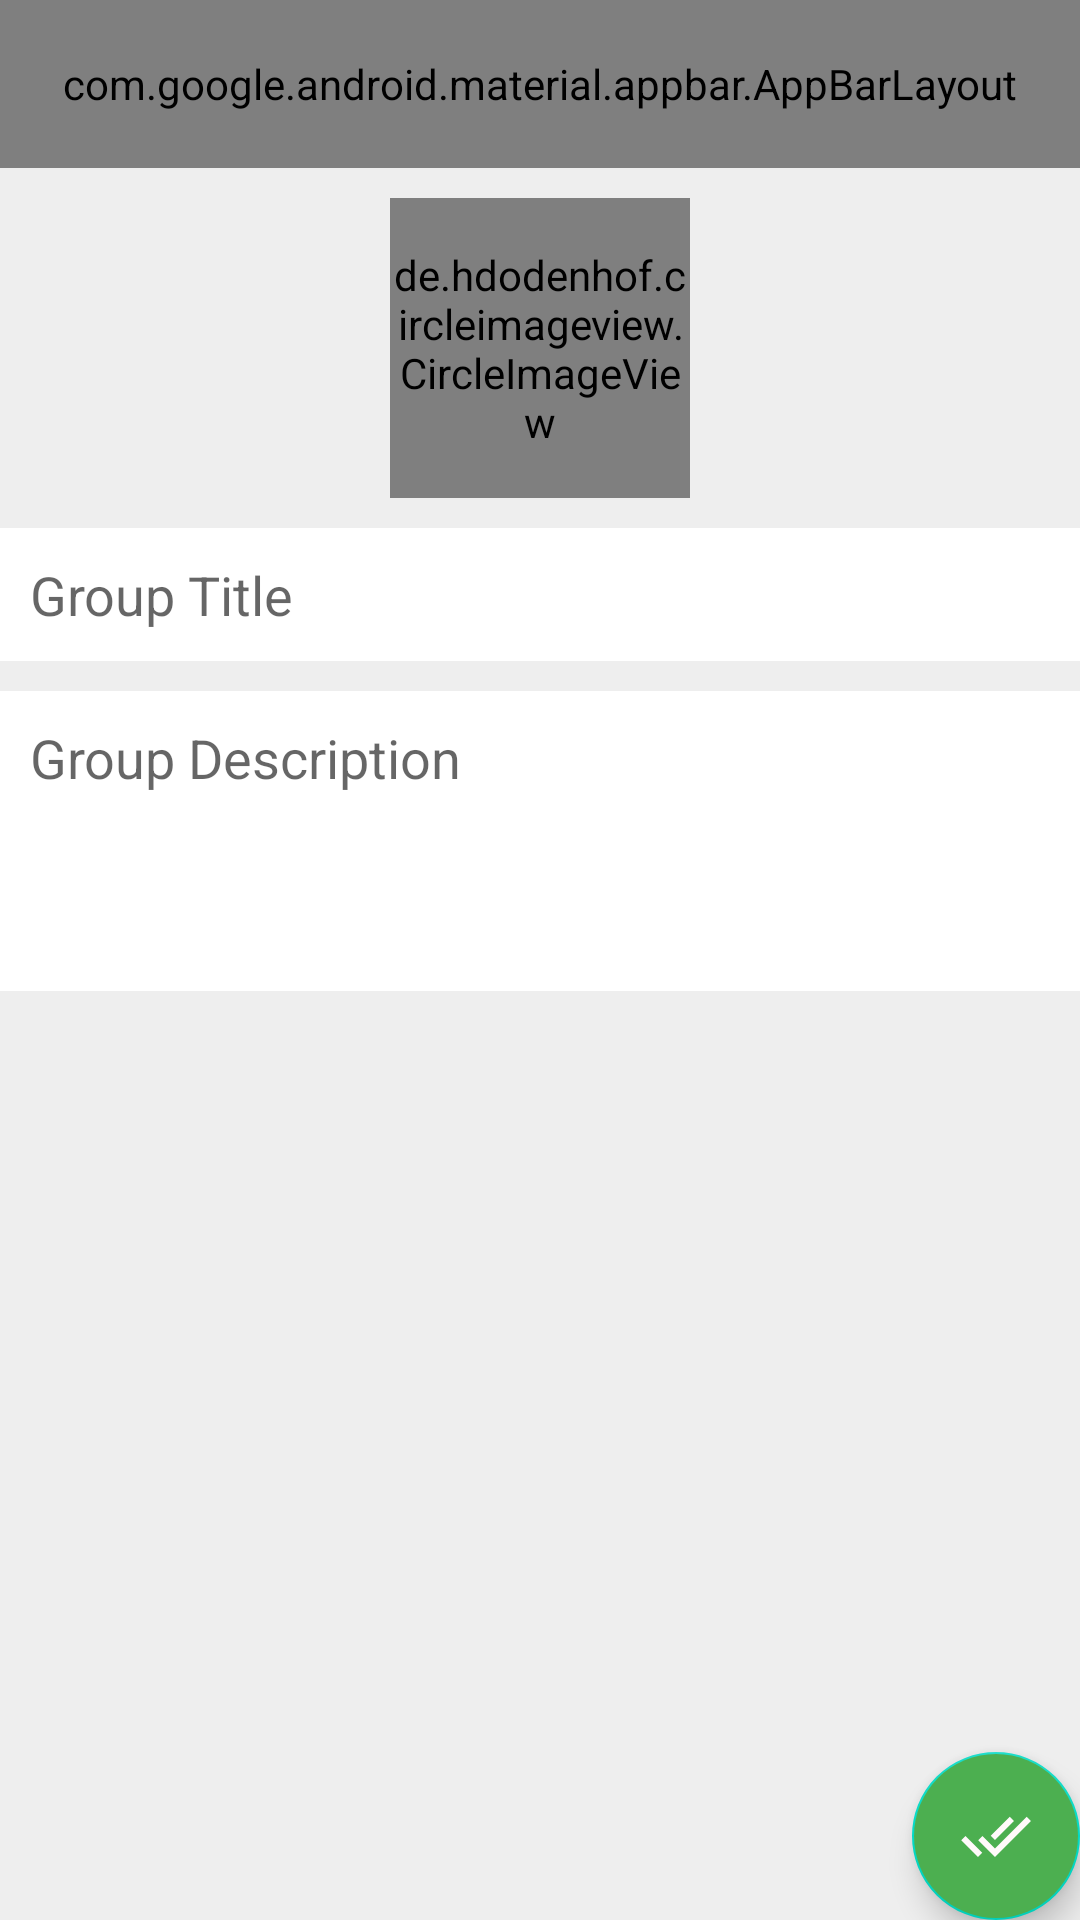

Screen size 1080x1920. Icon name, then its box in pixels as {"left": x1, "top": y1, "right": x2, "bottom": y2}:
done all: {"left": 912, "top": 1752, "right": 1080, "bottom": 1920}
